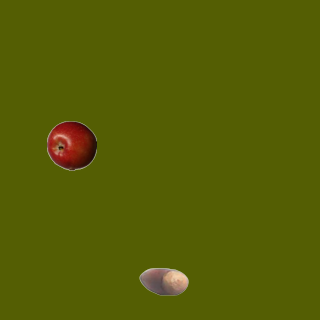Apple Braeburn: (46, 120, 96, 170)
Hazelnut: (138, 256, 188, 306)
